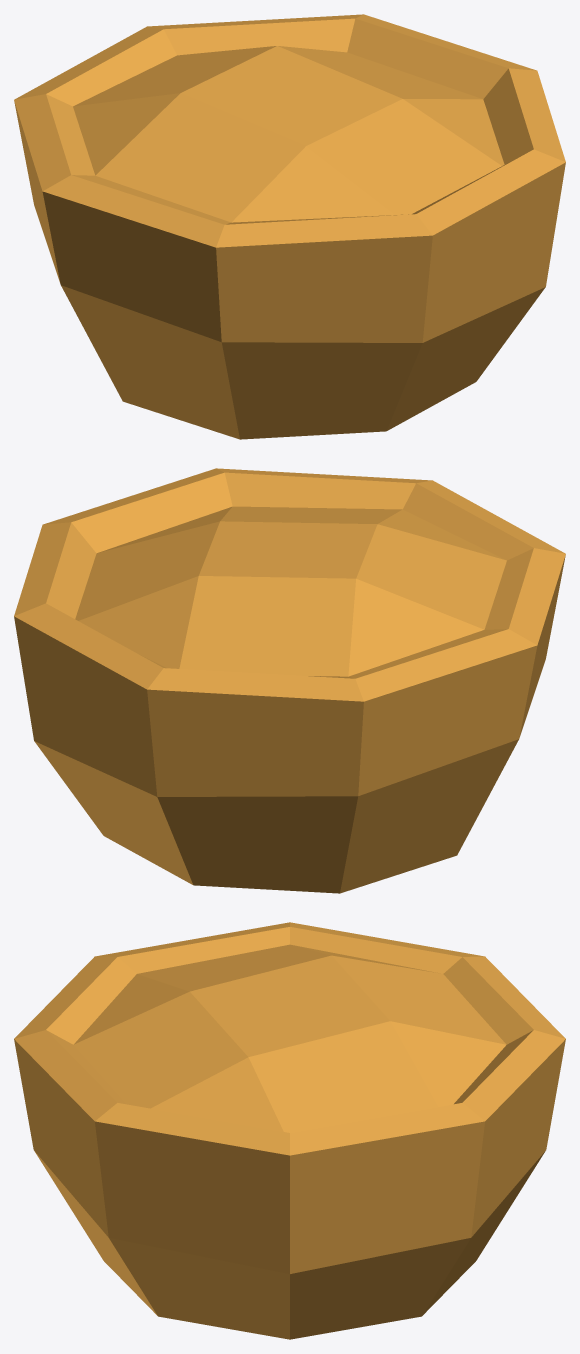
The model's file is egypt-bowl-spice.fbx.
3 views of the same model, one above another, from view 1: azimuth 30°, elevation 25°; view 2: azimuth 150°, elevation 25°; view 3: azimuth 270°, elevation 25° (orthographic). The views are drawn at different scales.
Parts seen in each view (by area): view 1: egypt-bowl-spice; view 2: egypt-bowl-spice; view 3: egypt-bowl-spice.
Part boxes in pixels (x1,y1,x2,y2): egypt-bowl-spice: (14,14,565,439); egypt-bowl-spice: (14,468,565,893); egypt-bowl-spice: (14,922,565,1339).
Size of the model in its own units: 0.533 by 0.2813 by 0.533.
